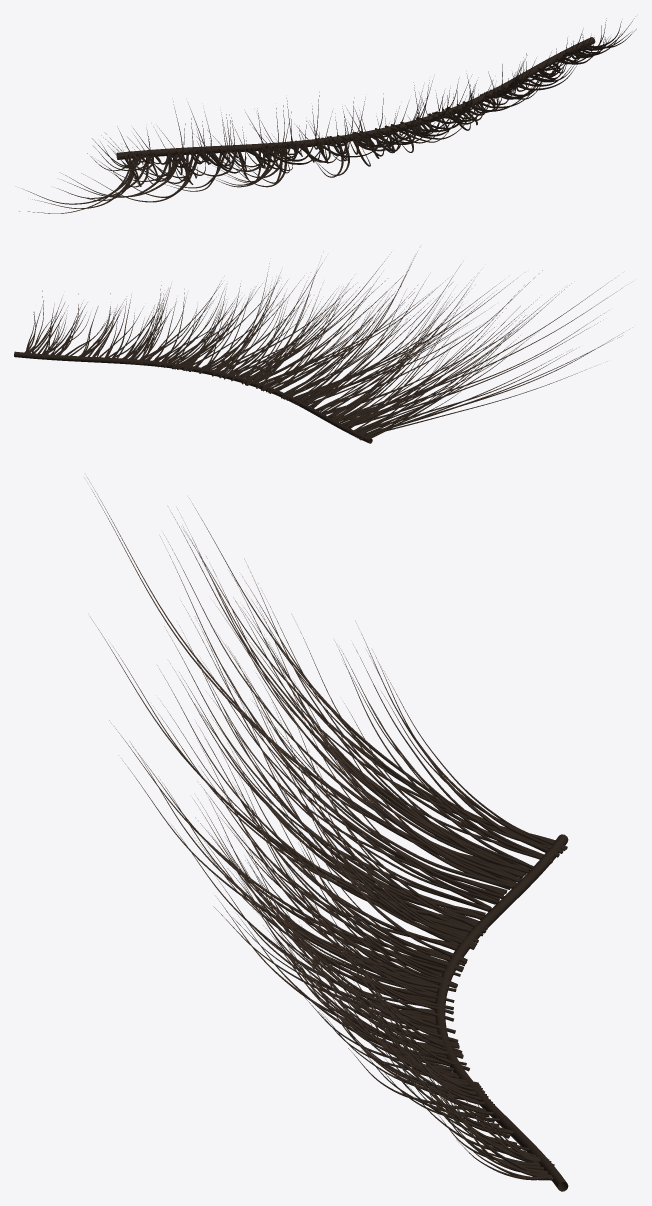
Rendered from foxy_intense_left.glb.
3 renders of one model, top to bottom at view 1: azimuth 30°, elevation 25°; view 2: azimuth 150°, elevation 25°; view 3: azimuth 270°, elevation 25°, orthographic. The views are drawn at different scales.
Parts seen in each view (by area): view 1: foxy_intense_left; view 2: foxy_intense_left; view 3: foxy_intense_left.
Boxes of the visible parts, left/top/right/bottom form: foxy_intense_left: left=19, top=18, right=636, bottom=213; foxy_intense_left: left=14, top=252, right=629, bottom=443; foxy_intense_left: left=87, top=477, right=568, bottom=1191.
Bounding box in the file's own units: 4.5 × 0.9585 × 1.77.
